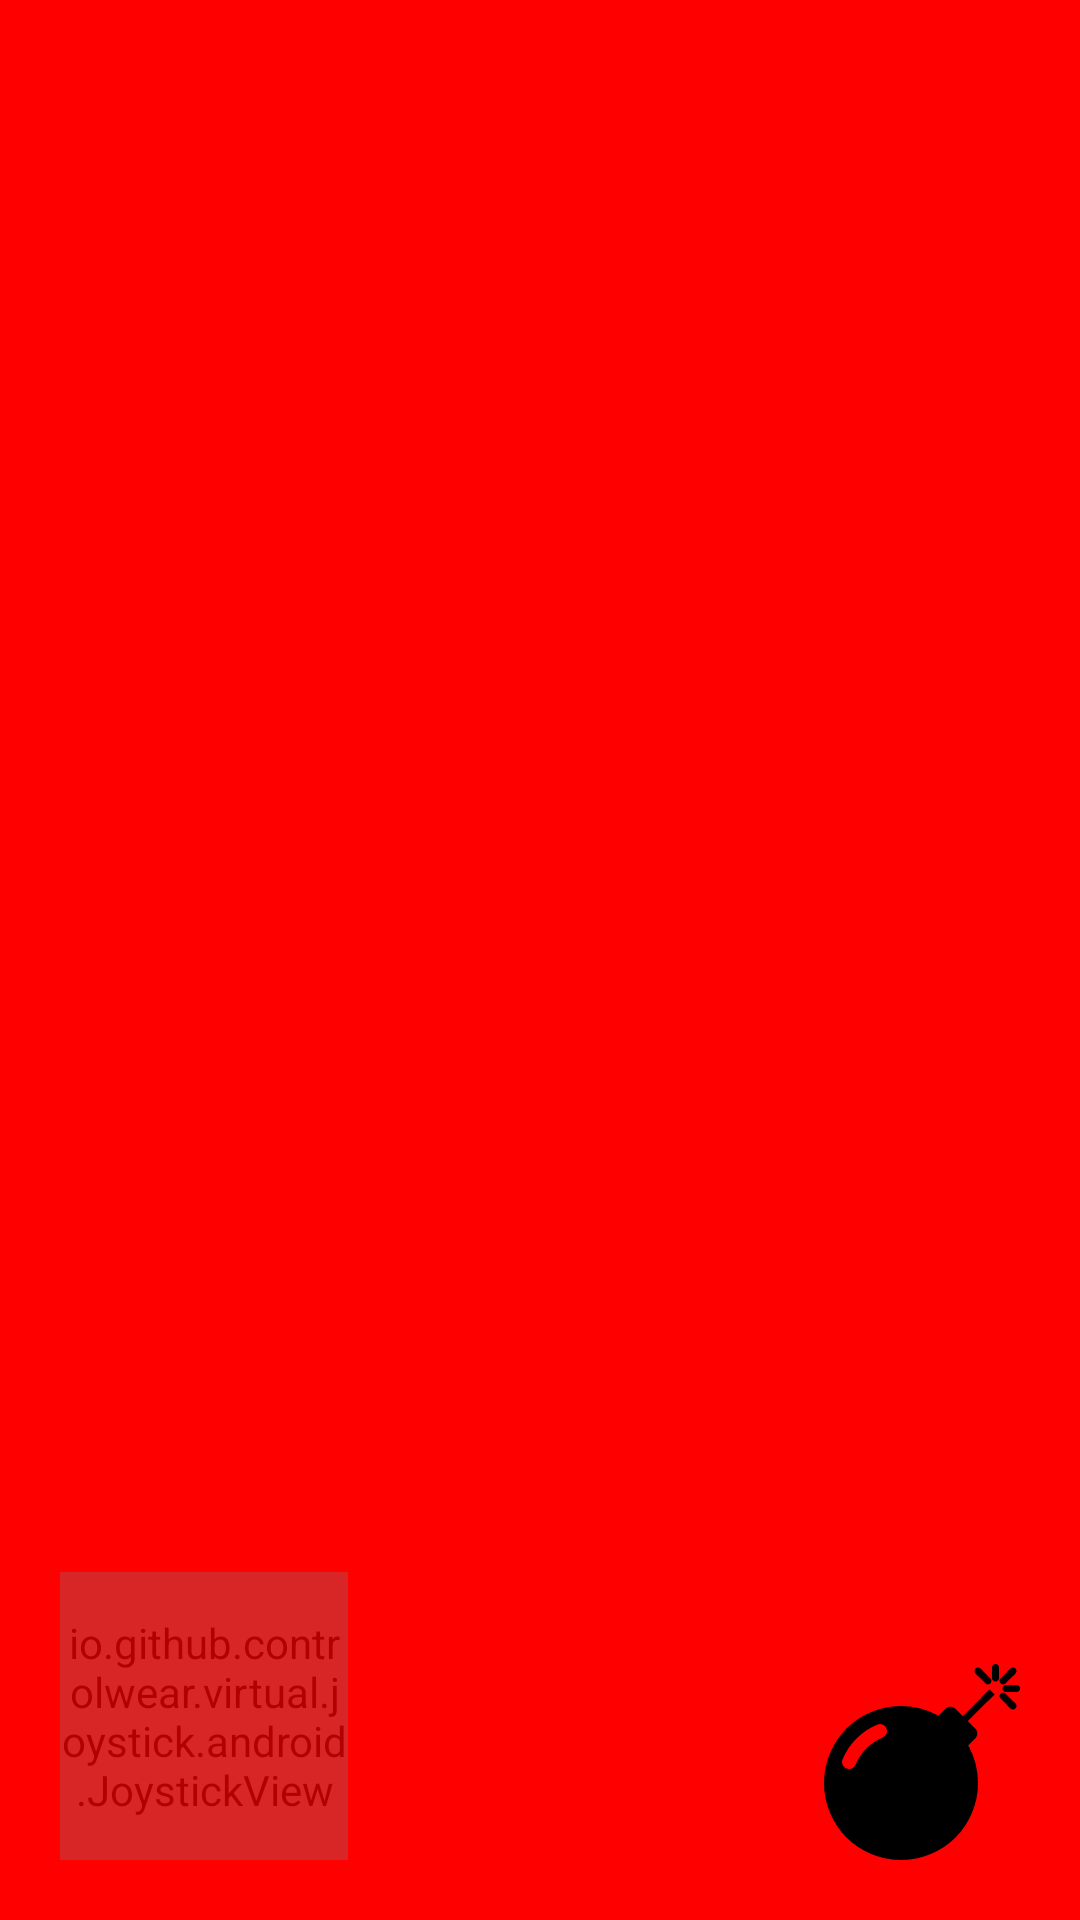

Where icons sit on this 1080 x 1920 app screen, as (x1, y1, x2, y2):
bomb release: (824, 1664, 1020, 1860)
